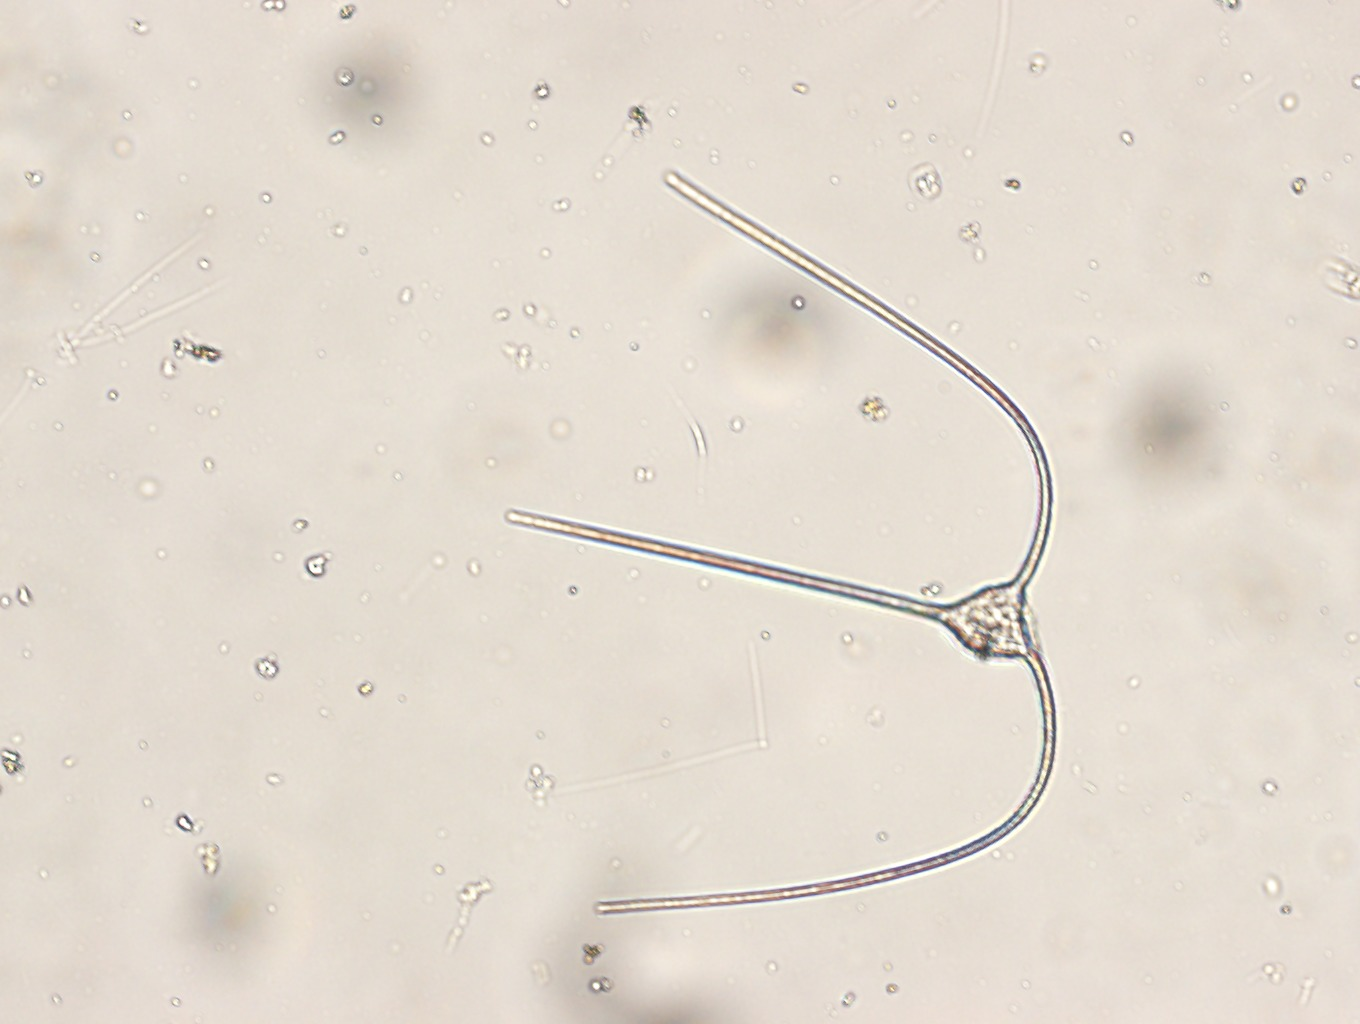ceratium trichoceros: (502, 167, 1055, 913)
